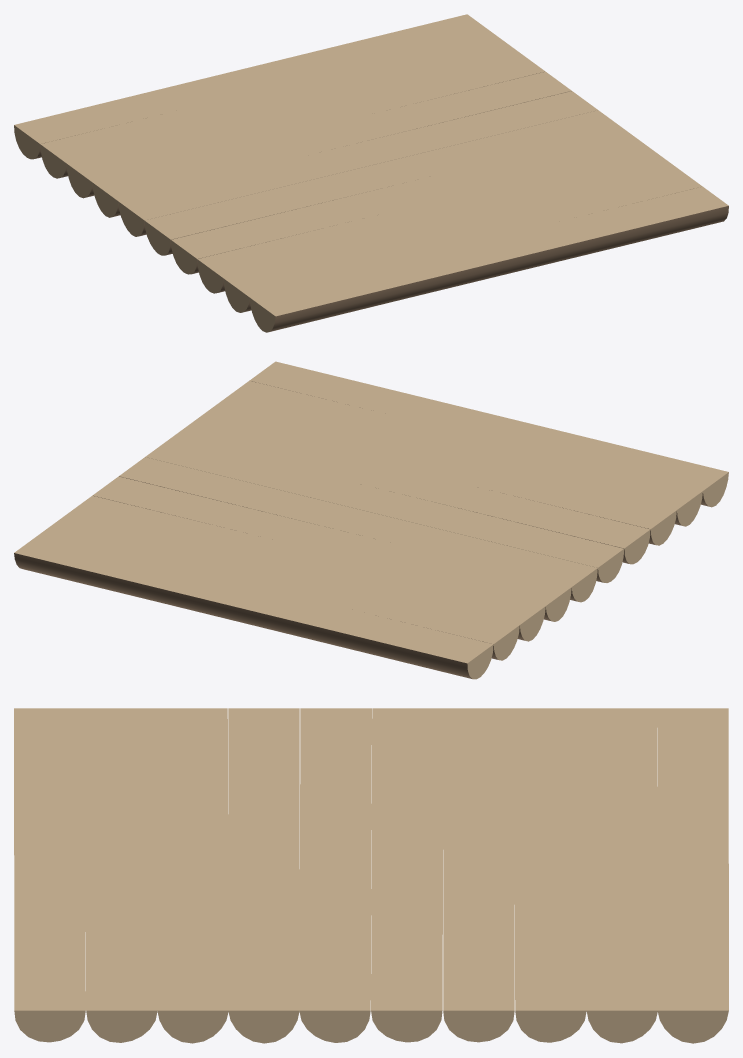
File: log_floor.glb
3 views of the same model, one above another, from view 1: azimuth 30°, elevation 25°; view 2: azimuth 150°, elevation 25°; view 3: azimuth 270°, elevation 25° (orthographic). The views are drawn at different scales.
Parts seen in each view (by area): view 1: Floor; view 2: Floor; view 3: Floor.
Boxes of the visible parts, x1=… form: Floor: x1=14, y1=14, x2=728, y2=332; Floor: x1=14, y1=361, x2=728, y2=679; Floor: x1=14, y1=708, x2=728, y2=1043.
Size of the model in its own units: 3 by 0.153 by 3.
